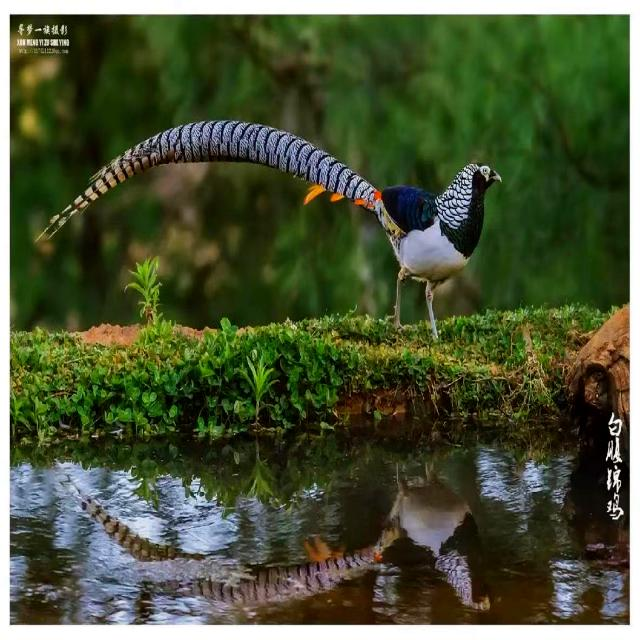Chrysolophus amherstiae: (45, 121, 375, 234)
